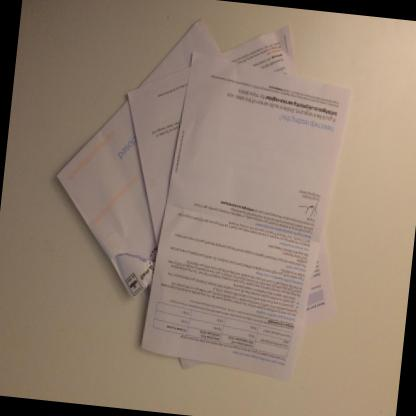Paper: (126, 25, 336, 369), (139, 52, 350, 382), (55, 18, 221, 300)
